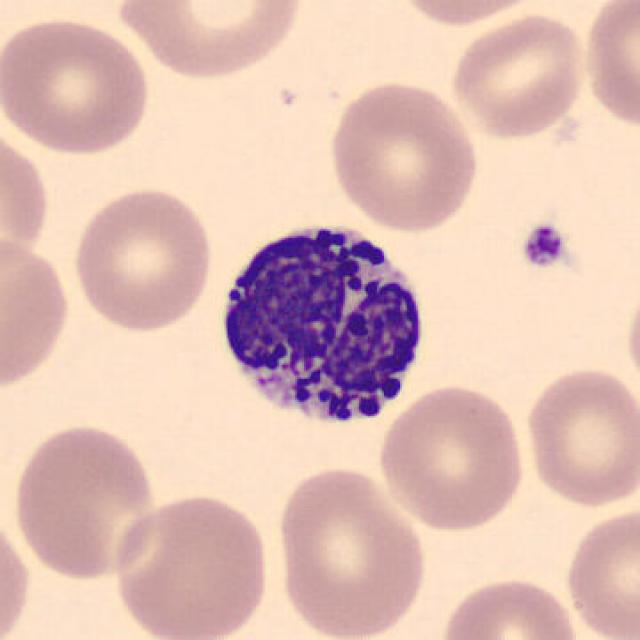Basophil: (204, 205, 436, 442)
Platelets: (517, 220, 571, 274)
RBC: (270, 462, 432, 640), (108, 490, 276, 640), (324, 78, 484, 234), (9, 420, 160, 584), (375, 381, 530, 534), (69, 182, 217, 335), (0, 12, 153, 159), (446, 9, 590, 141), (521, 363, 638, 511), (114, 0, 308, 81), (0, 229, 75, 395), (560, 502, 638, 640), (436, 573, 583, 640), (0, 119, 53, 273), (580, 0, 638, 132), (390, 0, 550, 30), (0, 509, 34, 640), (622, 274, 640, 406)
